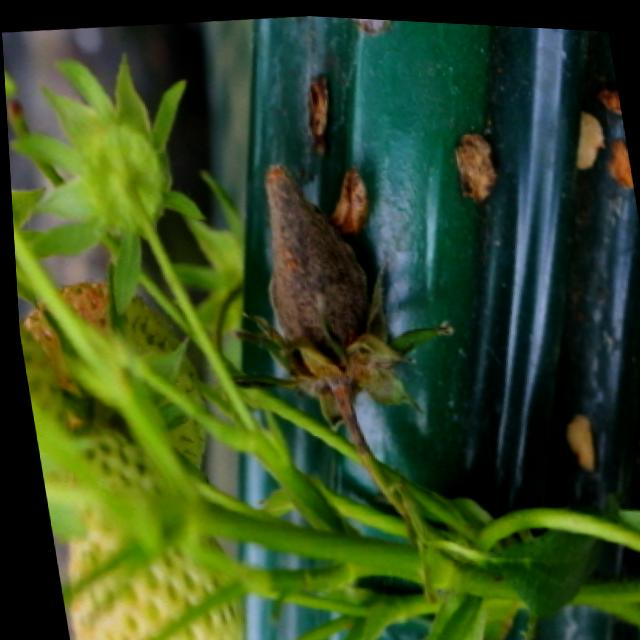Gray Mold: (229, 154, 402, 447)
